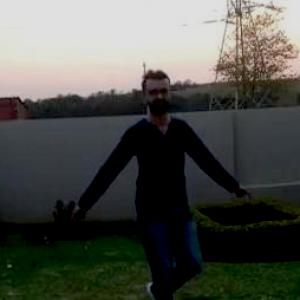land: (92, 90, 223, 282)
